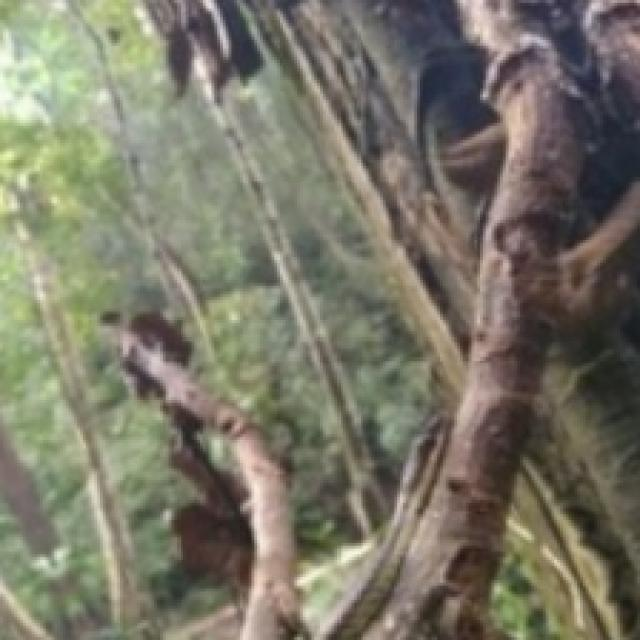paradise tree snake: (146, 0, 637, 637)
